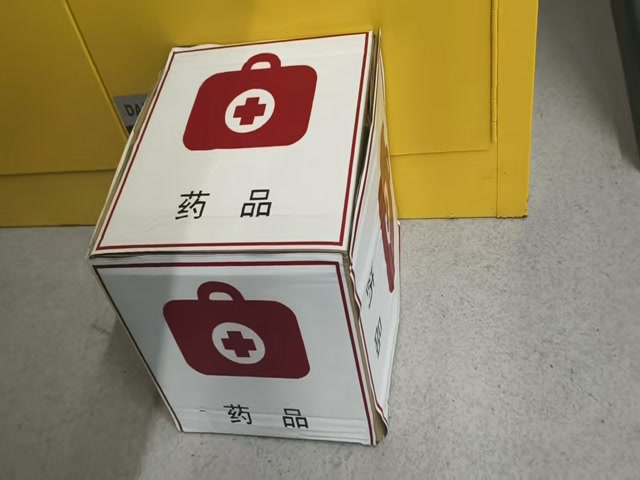Cube_medicine: (90, 32, 375, 273)
